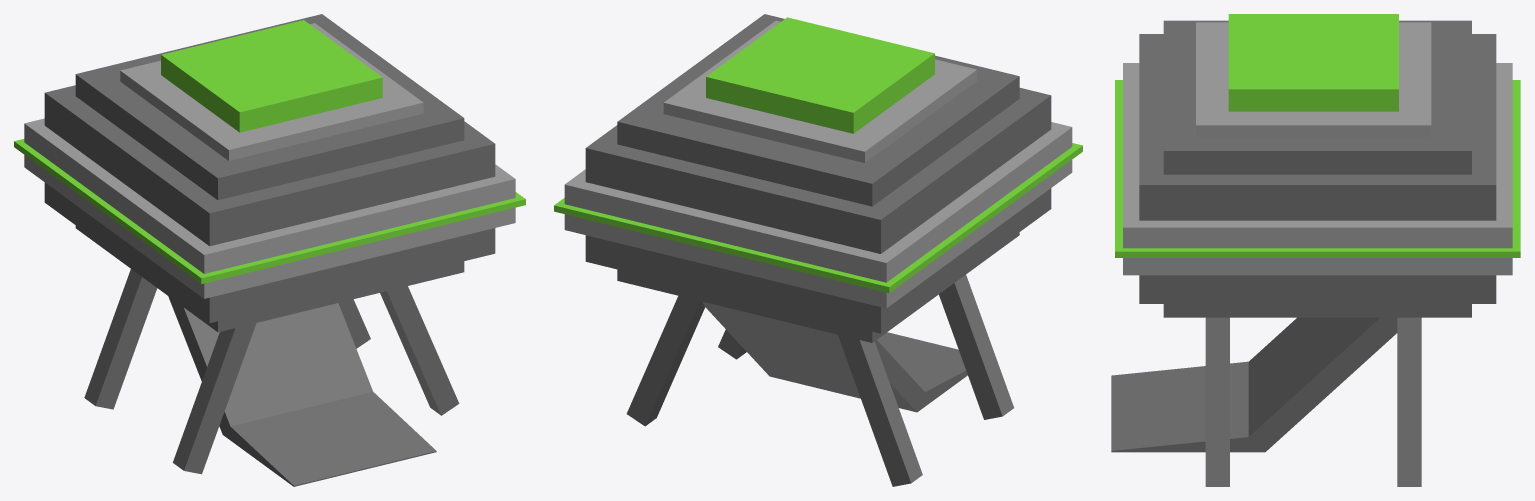
Rendered from UFO.fbx.
3 views of the same model, side by side, from view 1: azimuth 30°, elevation 25°; view 2: azimuth 150°, elevation 25°; view 3: azimuth 270°, elevation 25° (orthographic). The views are drawn at different scales.
Visible parts, largest first — view 1: cube.005; view 2: cube.005; view 3: cube.005.
Boxes of the visible parts, box(x1,y1,x2,y2) form: cube.005: box(14, 14, 525, 486); cube.005: box(554, 14, 1082, 486); cube.005: box(1111, 14, 1520, 486).
Bounding box in the file's own units: 914 × 922 × 922.
